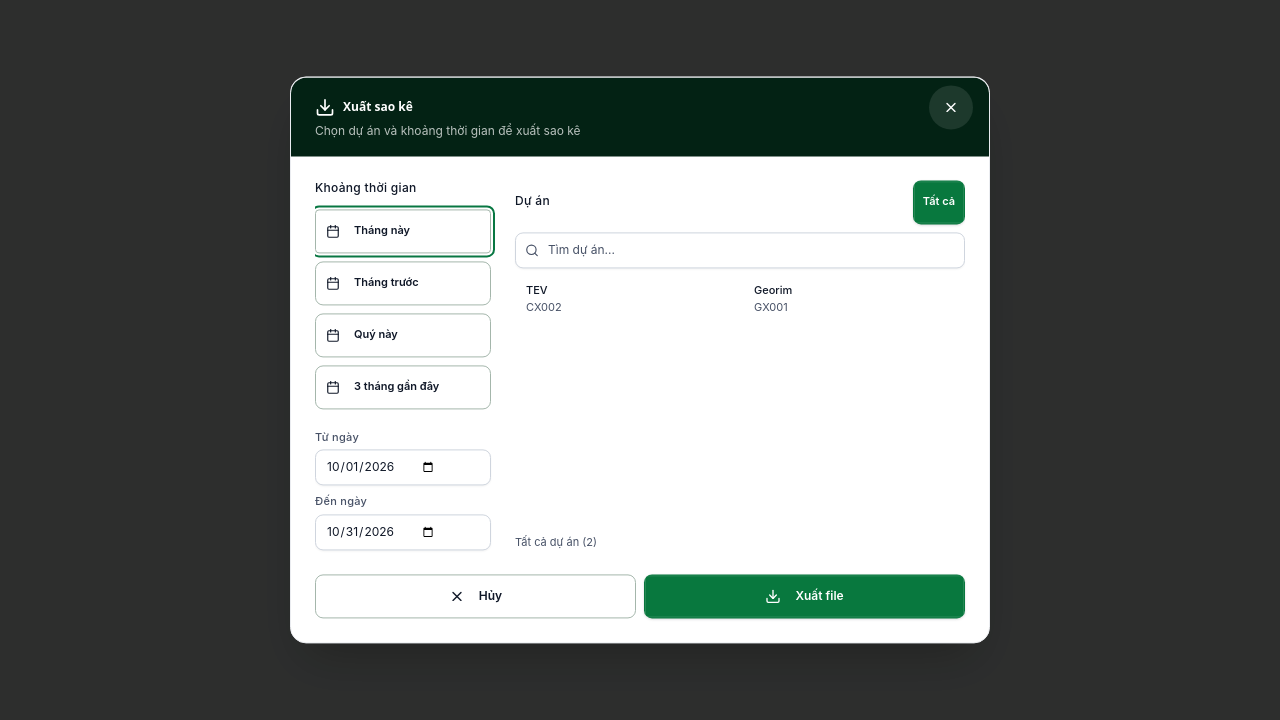
Test case: ExportSaoKeDialog › filters by the typed project name
In the field with placeholder "Tìm dự án...": (740, 250) [515,232,965,268], type "TEV"
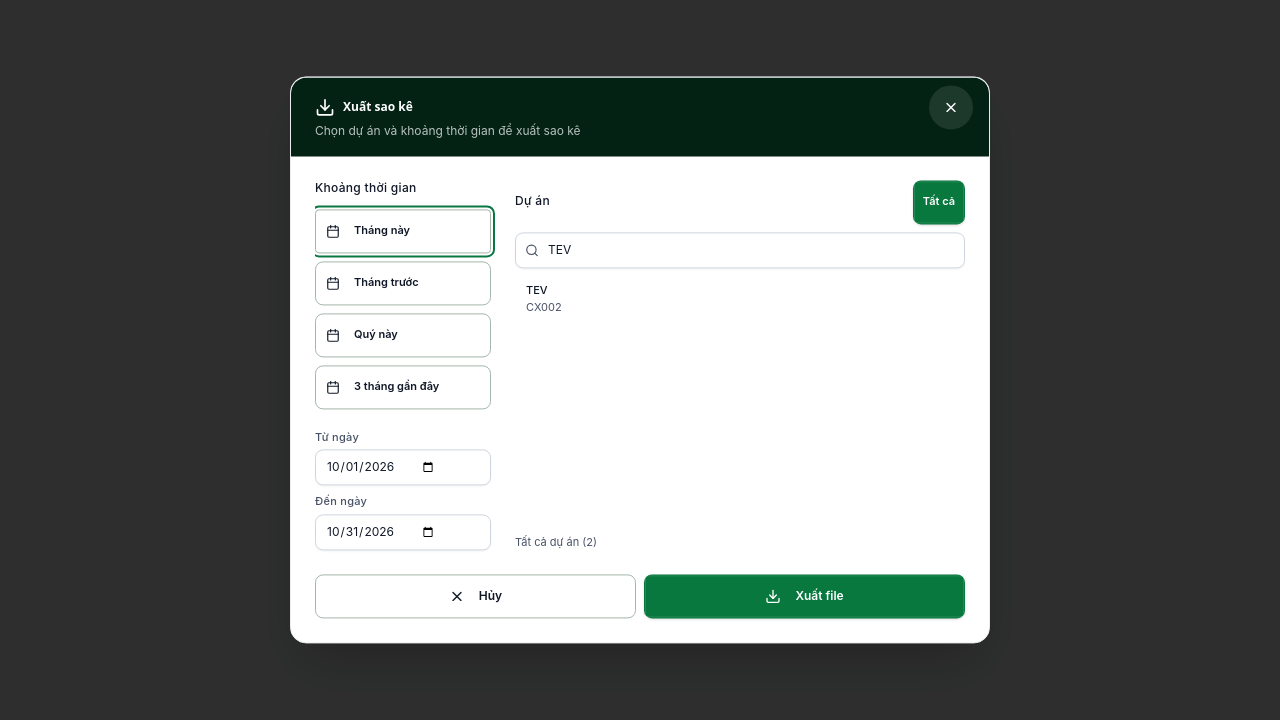
Expected: the button "TEV CX002" is shown, [515,276,737,323]
Expected: the button "Georim" is gone
